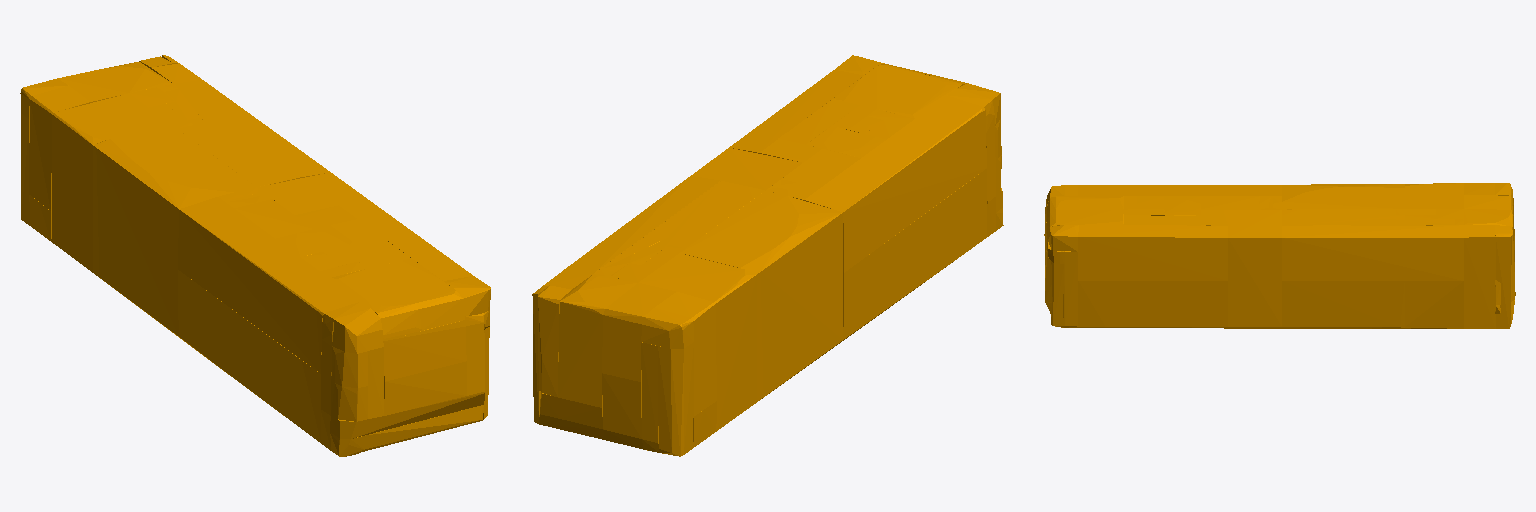
The robot description file, URDF, robot "box-proschmelz":
<?xml version="1.0" ?>
<robot name="box-proschmelz">
  <link name="baseLink">
    <contact>
      <lateral_friction value="1.0"/>
      <inertia_scaling value="3.0"/>
    </contact>
    <inertial>
      <origin rpy="0 0 0" xyz="0.000 0.000 0.000"/>
       <mass value=".1"/>
       <inertia ixx="1" ixy="0.0" ixz="0.0" iyy="1" iyz="0.0" izz="1"/>
    </inertial>
    <visual>
      <origin rpy="0 0 0" xyz="0 0 0"/>
      <geometry>
        <mesh filename="box/box-proschmelz.obj" scale="1.0 1.0 1.0"/>
      </geometry>
    </visual>
    <collision>
      <origin rpy="0 0 0" xyz="0 0 0"/>
      <geometry>
        <mesh filename="../collision/box/box-proschmelz.obj" scale="1.0 1.0 1.0"/>
      </geometry>
    </collision>
  </link>
</robot>
        

--- Render facts (derived) ---
The picture shows the robot from 3 angles, left to right: view 1: azimuth 30°, elevation 25°; view 2: azimuth 150°, elevation 25°; view 3: azimuth 270°, elevation 25°; orthographic projection.
Robot: box-proschmelz — 1 links, 0 joints (none); root link baseLink; default pose: all joints at 0.
Links seen in each view (by area): view 1: baseLink; view 2: baseLink; view 3: baseLink.
Link boxes in pixels (x1,y1,x2,y2): baseLink: (20,55,490,456); baseLink: (532,55,1003,456); baseLink: (1044,183,1515,328).
Size in the robot's own frame: 0.0464 by 0.1715 by 0.0391 metres.
1 mesh visuals loaded from 1 distinct referenced files (1 OBJ).
